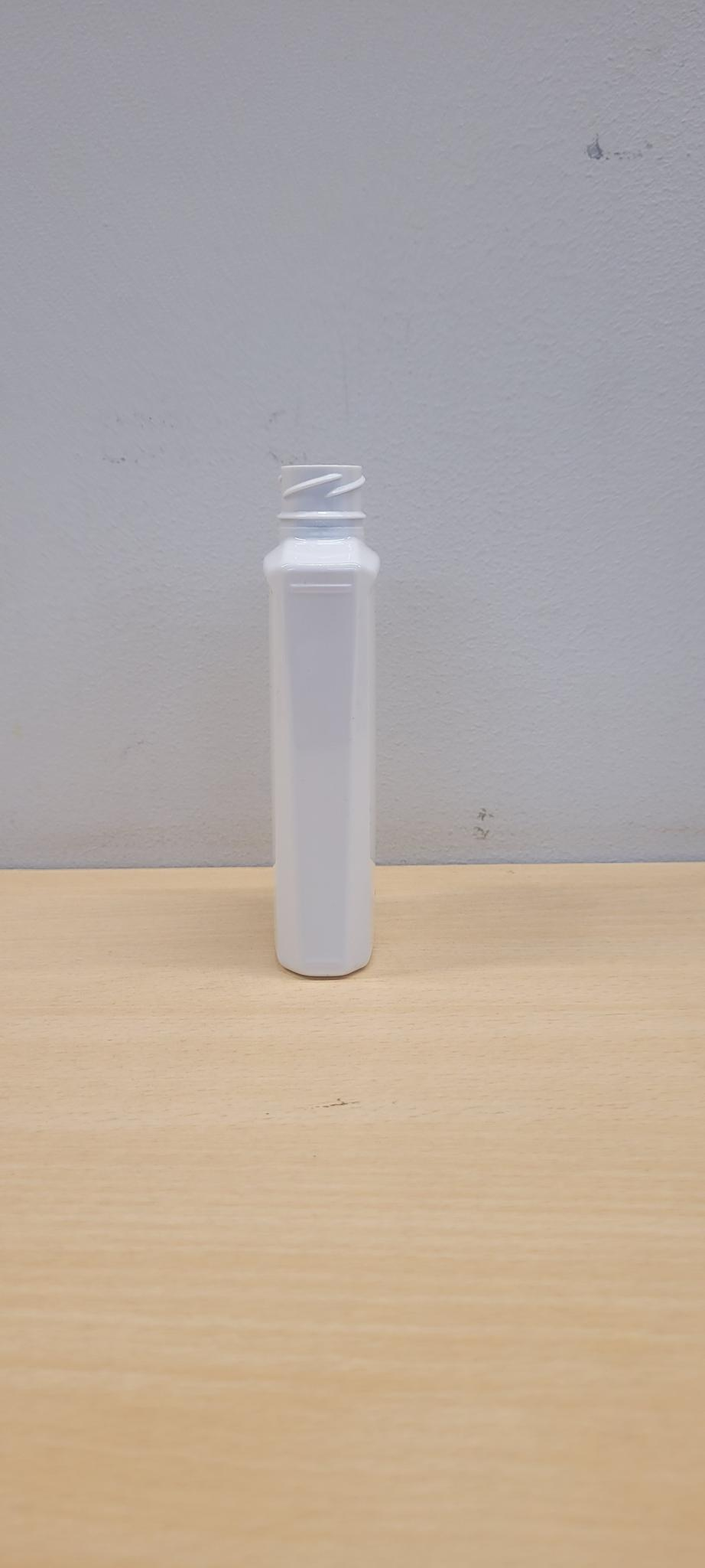bottle: (264, 463, 379, 977)
